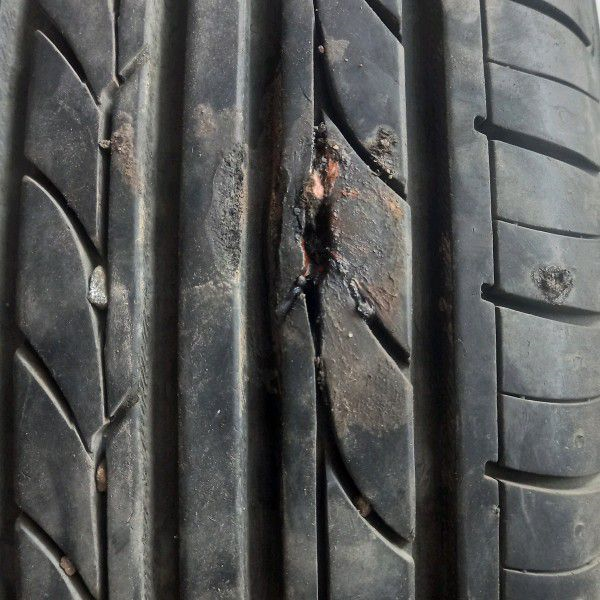tr: (277, 124, 351, 366)
